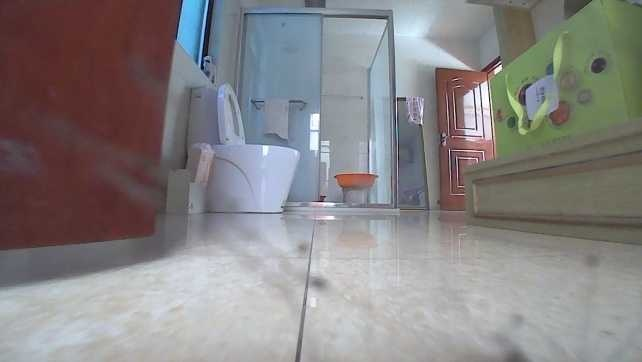door_anno: (433, 65, 495, 208)
toilet: (188, 80, 302, 213)
